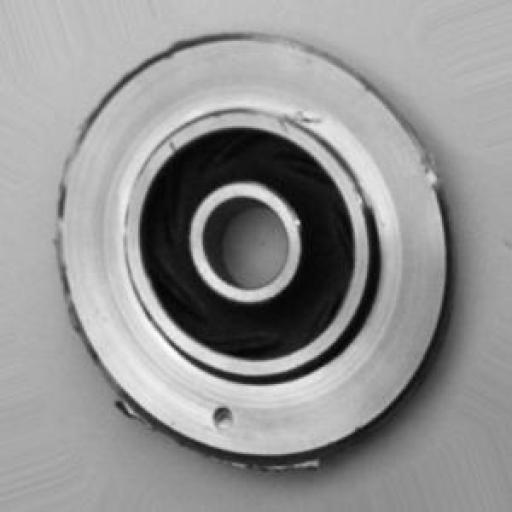defect: (35, 34, 467, 486)
